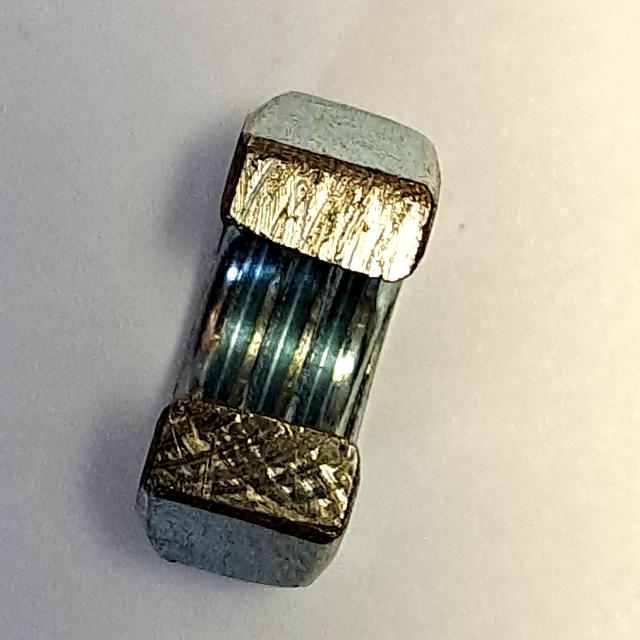Side-Fracture: (126, 81, 454, 601)
